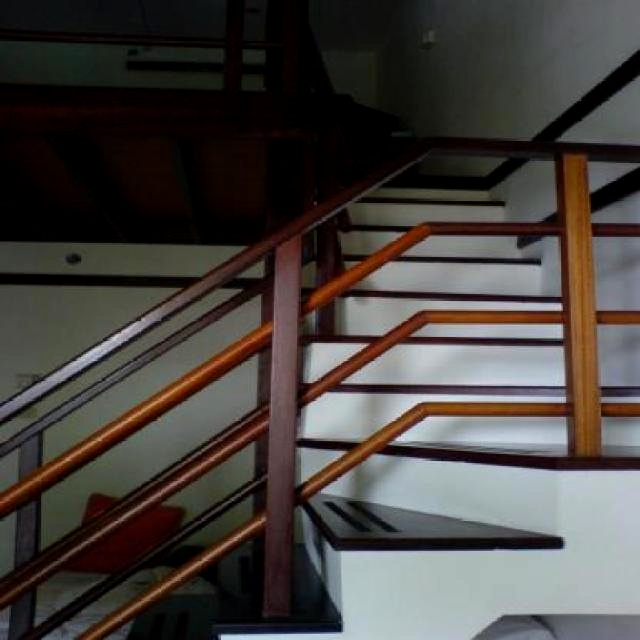stair: (121, 166, 640, 640)
